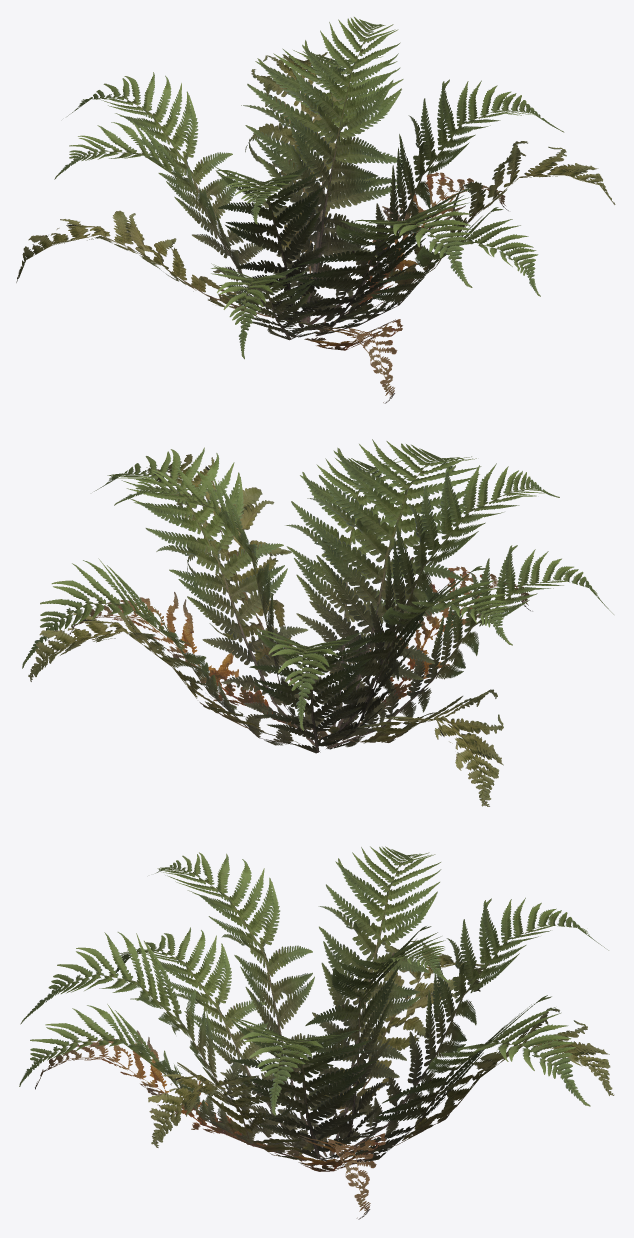
File: PW_Plant_Fern_Realistic_02.fbx
3 renders of one model, top to bottom at view 1: azimuth 30°, elevation 25°; view 2: azimuth 150°, elevation 25°; view 3: azimuth 270°, elevation 25°, orthographic. The views are drawn at different scales.
Parts seen in each view (by area): view 1: PW_Plant_Fern_Realistic_02_LOD0; view 2: PW_Plant_Fern_Realistic_02_LOD0; view 3: PW_Plant_Fern_Realistic_02_LOD0.
Part boxes in pixels (x1,y1,x2,y2): PW_Plant_Fern_Realistic_02_LOD0: (16, 17, 615, 403); PW_Plant_Fern_Realistic_02_LOD0: (22, 439, 613, 806); PW_Plant_Fern_Realistic_02_LOD0: (19, 846, 614, 1219).
Size of what is drawn, in the model's own units: 179 by 92.34 by 187.
